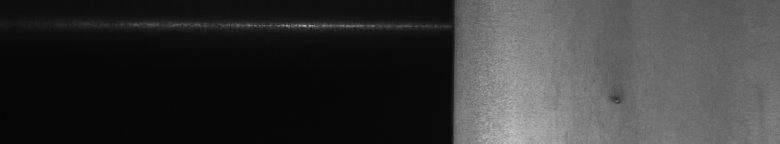fi: (607, 95, 622, 108)
